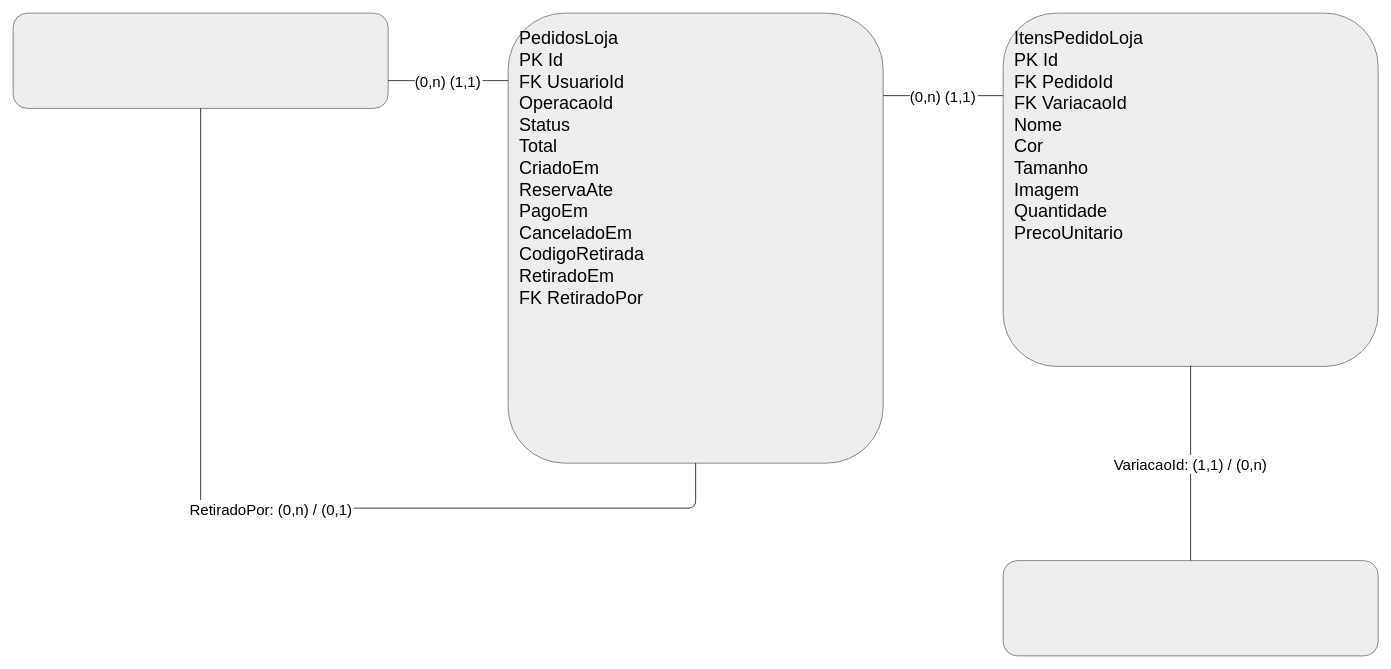
The diagram is 1391 pixels wide and 669 high, and some of its shapes have lost their labels. Here are the shapes that lost their labels. From the top down, the centre of each, then its label:
(x=200, y=60): Usuarios PK Id
(x=1190, y=608): ProdutoVariacoes PK Id
